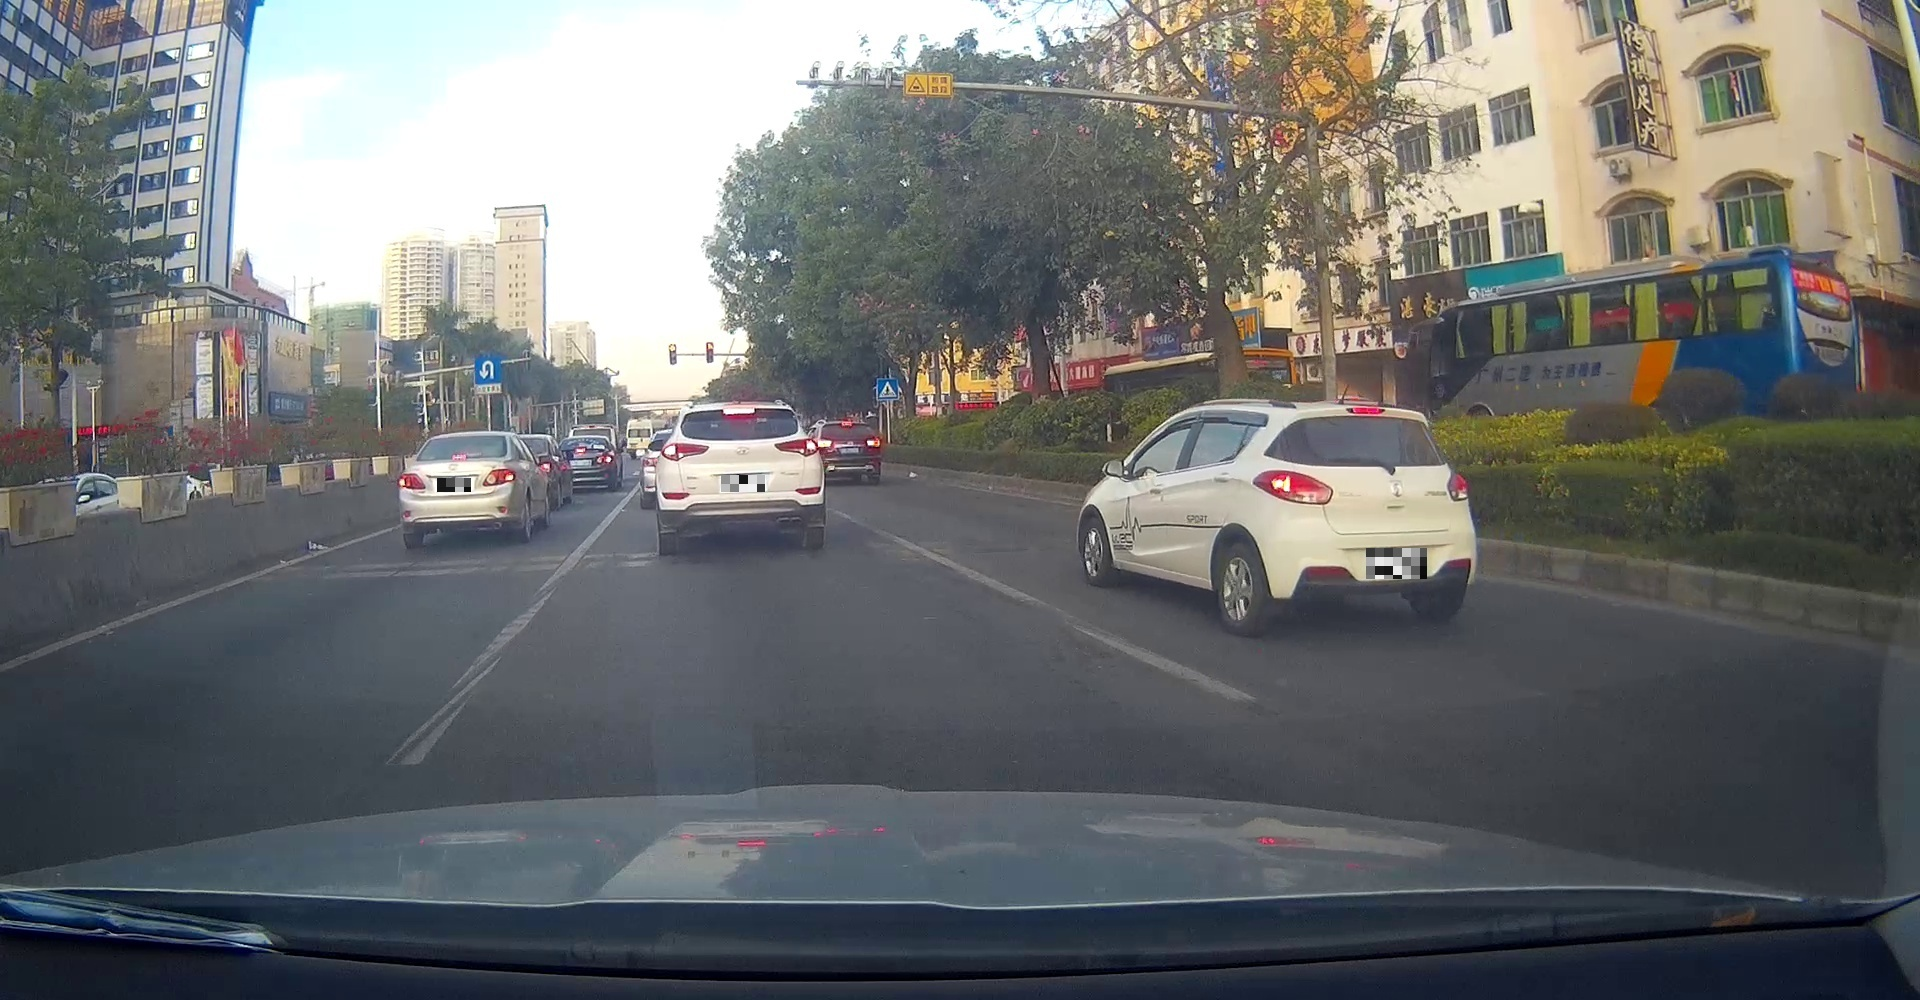L_light: (1251, 470, 1335, 505), (660, 442, 709, 461), (397, 472, 425, 490)
R_light: (773, 437, 820, 457), (1446, 471, 1469, 503), (483, 468, 517, 487)
T_light: (1347, 407, 1384, 415), (723, 409, 756, 415), (452, 454, 467, 461)
day-brake: (654, 400, 825, 555), (397, 431, 517, 549)
day-right: (1250, 402, 1478, 621)
plate_1: (437, 478, 471, 492)
plate_2: (721, 475, 764, 492)
plate_3: (1366, 548, 1427, 579)
